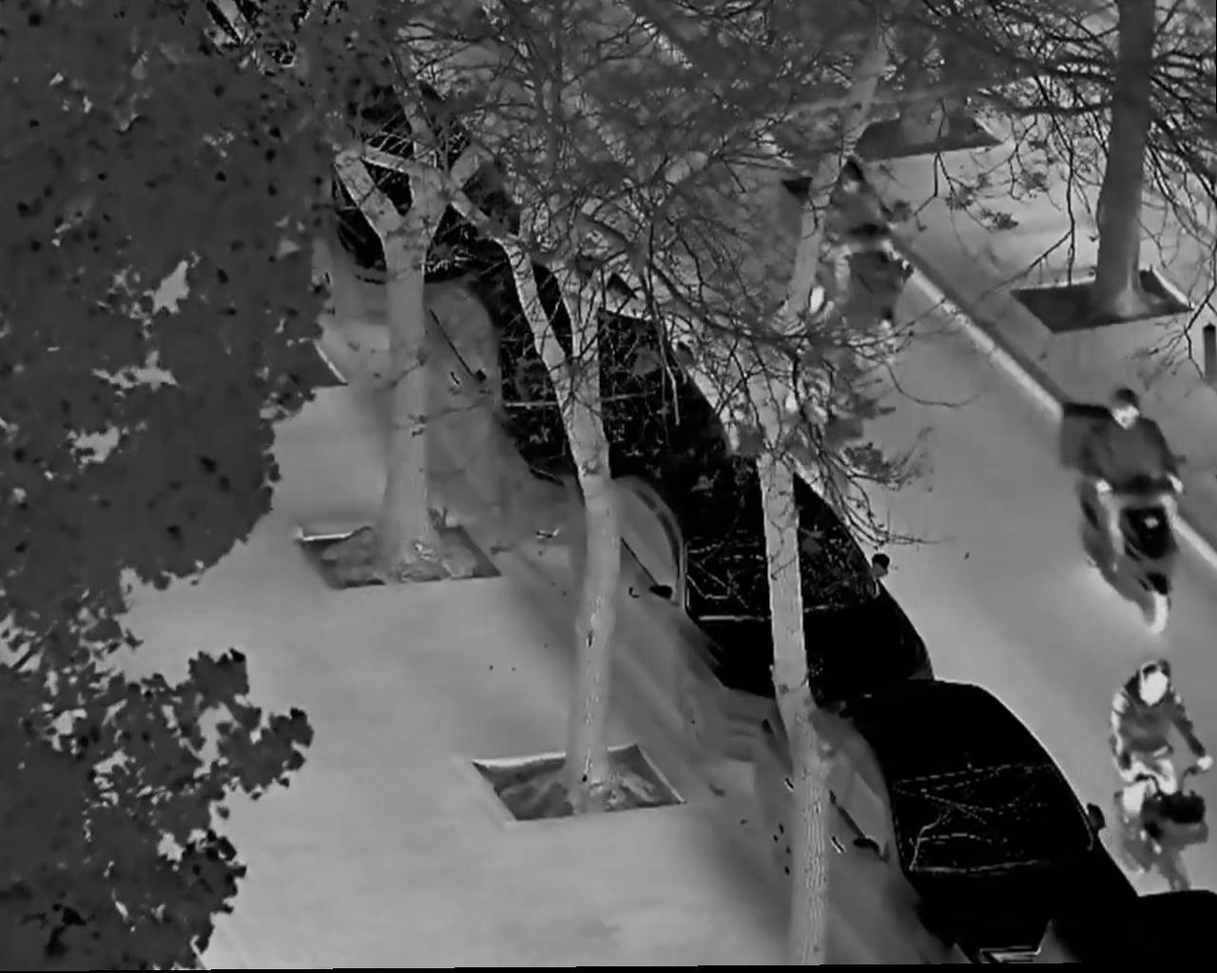person: (1102, 663, 1210, 830), (1086, 392, 1189, 552), (815, 160, 910, 295)
